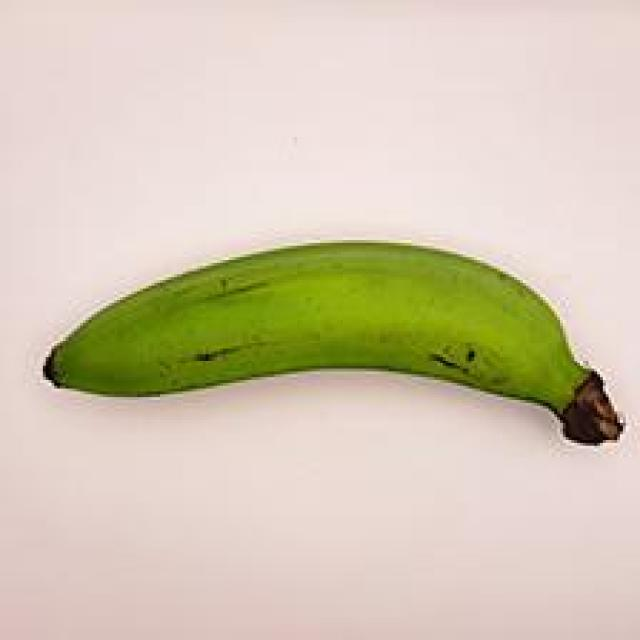Raw: (30, 200, 624, 492)
